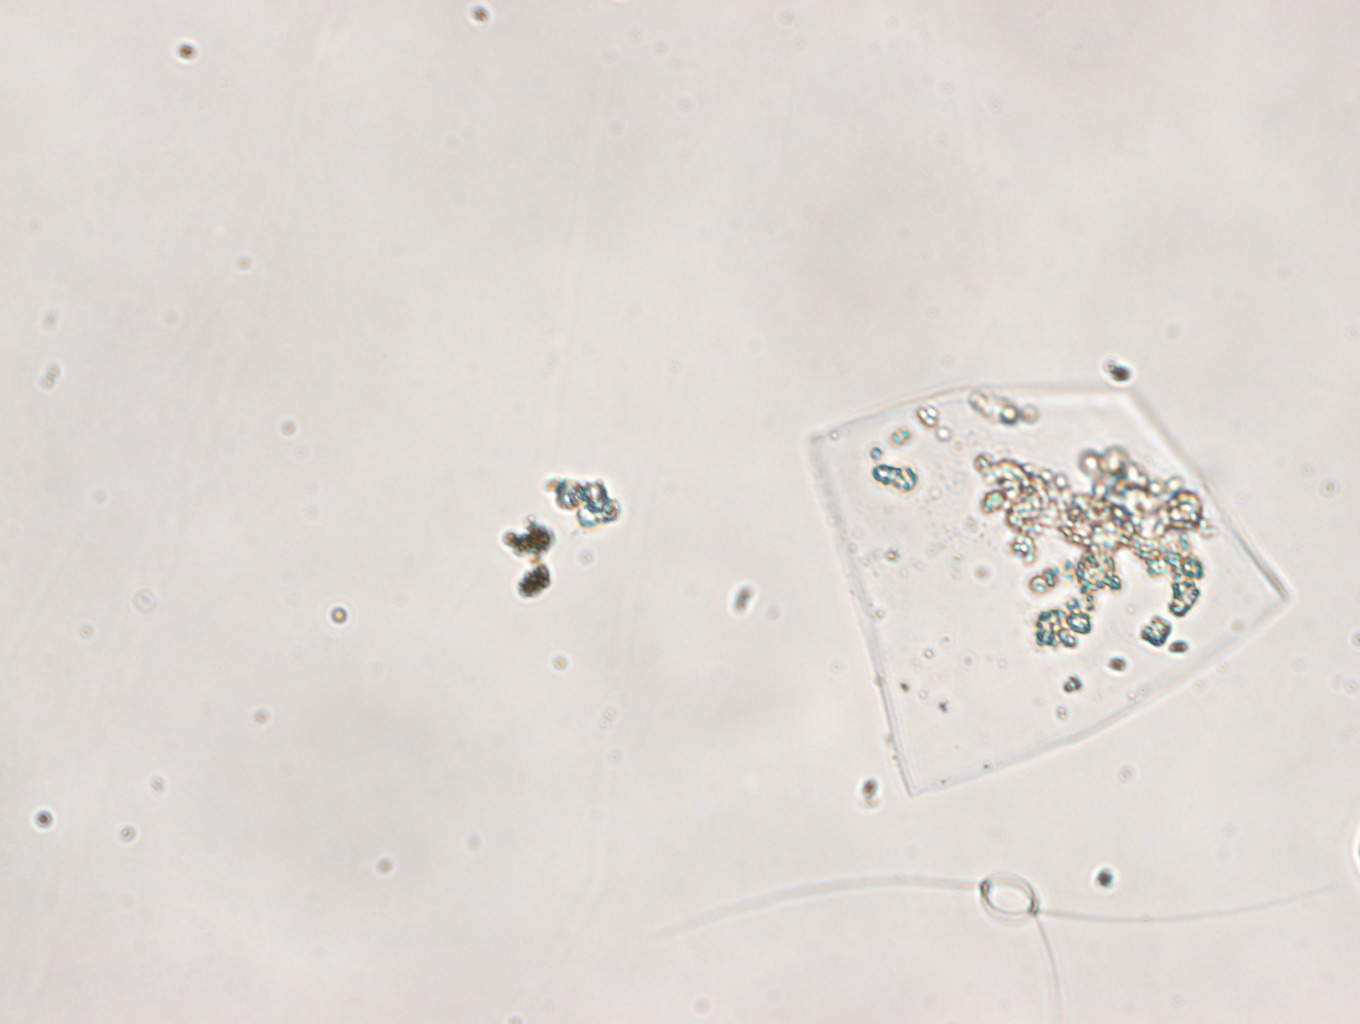chaetoceros: (687, 870, 1358, 1002)
helicotheca: (808, 387, 1292, 798)
